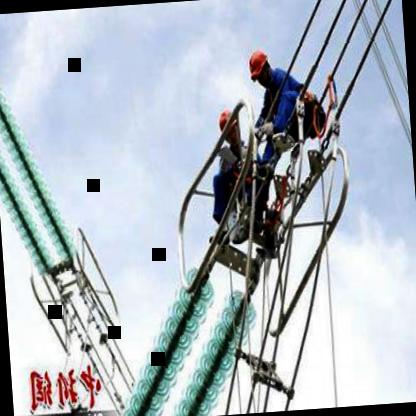helmet: (246, 44, 276, 90), (218, 102, 242, 152)
